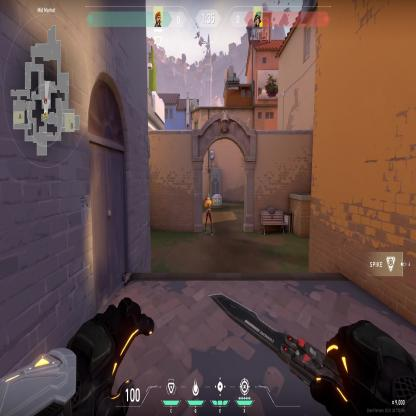enemy: (204, 192, 213, 238)
